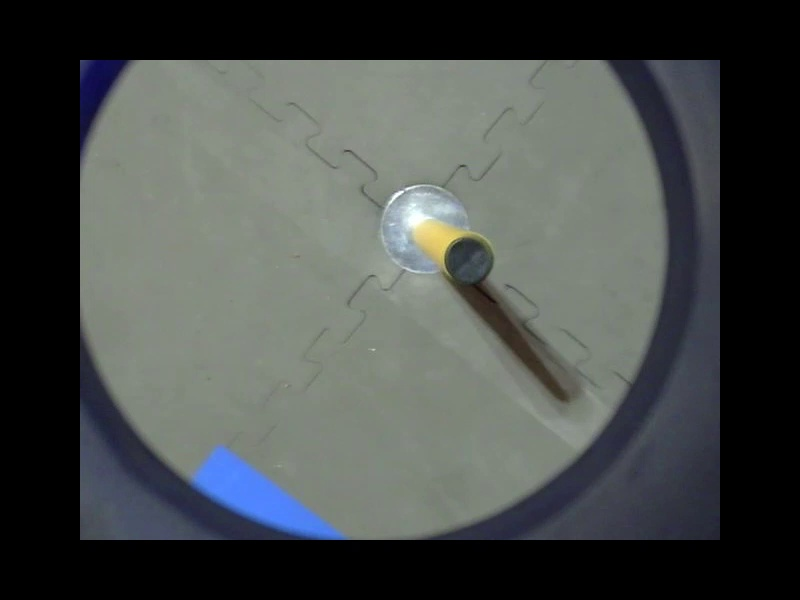tip: (440, 228, 499, 287)
